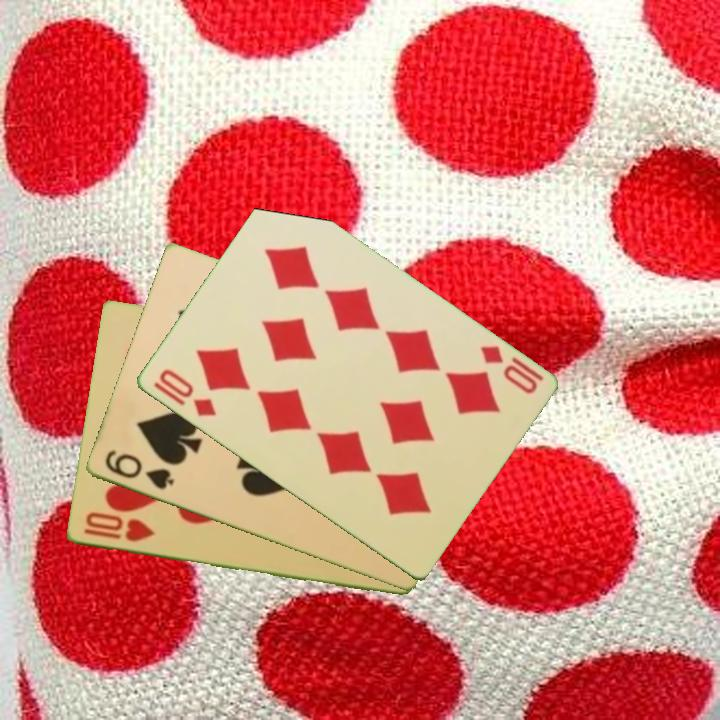10d: (476, 341, 540, 397), (155, 365, 219, 420)
10h: (80, 509, 157, 545)
6s: (100, 446, 177, 493)
